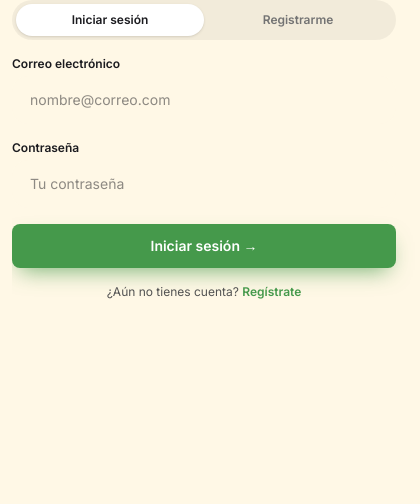
it: register rejects passwords that do not match
The width and height of the screenshot is (420, 504).
Step 1. Click the button "Registrarme" → x=298, y=20, box 204,4 -> 392,36
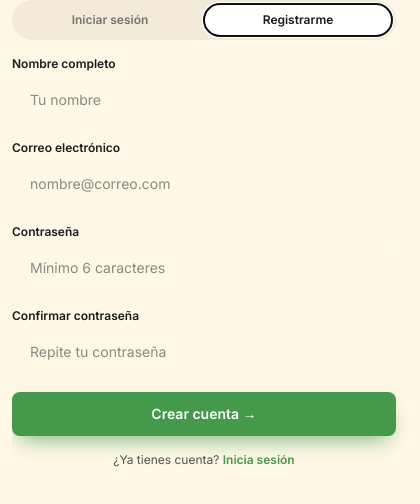
Step 2. Type "Valentina Ríos" into the field labelled "Nombre completo" → x=204, y=100, box 12,76 -> 396,124
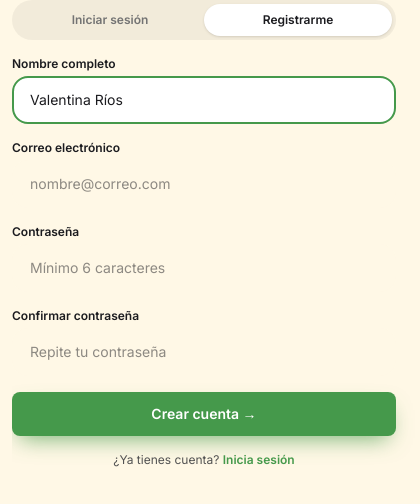
Step 3. Type "valentina@correo.com" into the field labelled "Correo electrónico" → x=204, y=184, box 12,160 -> 396,208
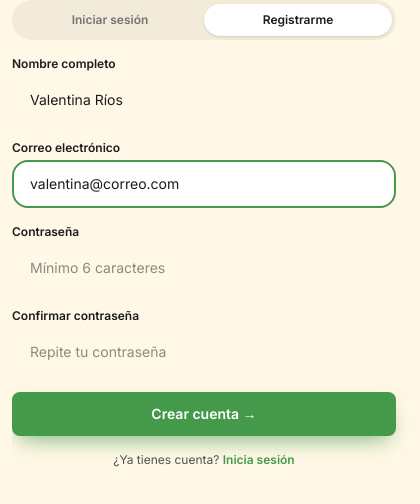
Step 4. Type "secreto1" into the password field labelled "Contraseña" → x=204, y=268, box 12,244 -> 396,292
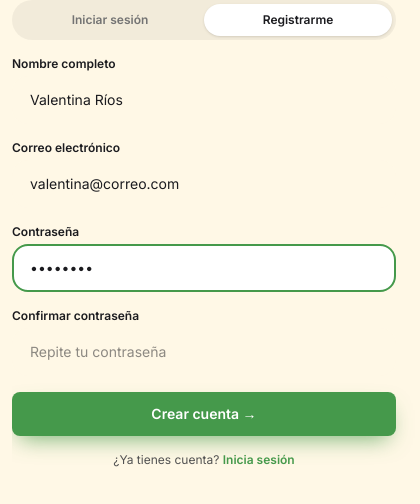
Step 5. Type "distinta" into the password field labelled "Confirmar contraseña" → x=204, y=352, box 12,328 -> 396,376
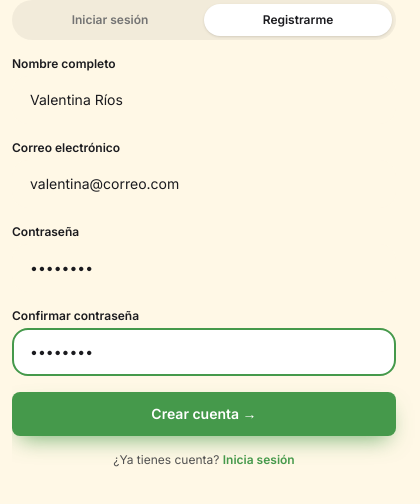
Step 6. Click the button "Crear cuenta →" → x=204, y=414, box 12,392 -> 396,436
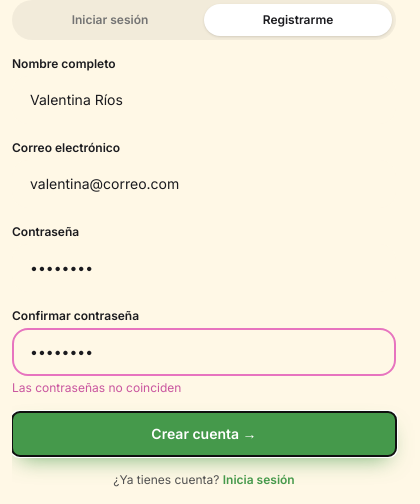
Check: the text "Las contraseñas no coinciden" is shown, box 12,380 -> 181,395
